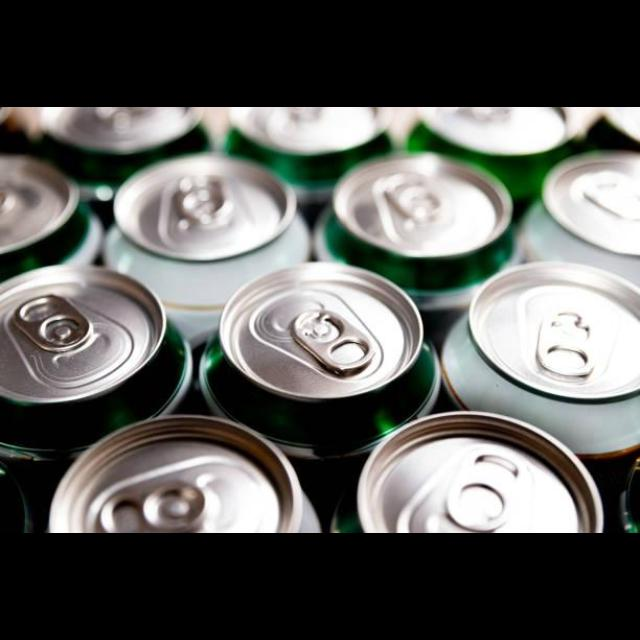aba de lata: (443, 445, 532, 533), (291, 306, 375, 378), (10, 293, 94, 355), (536, 303, 602, 375)
